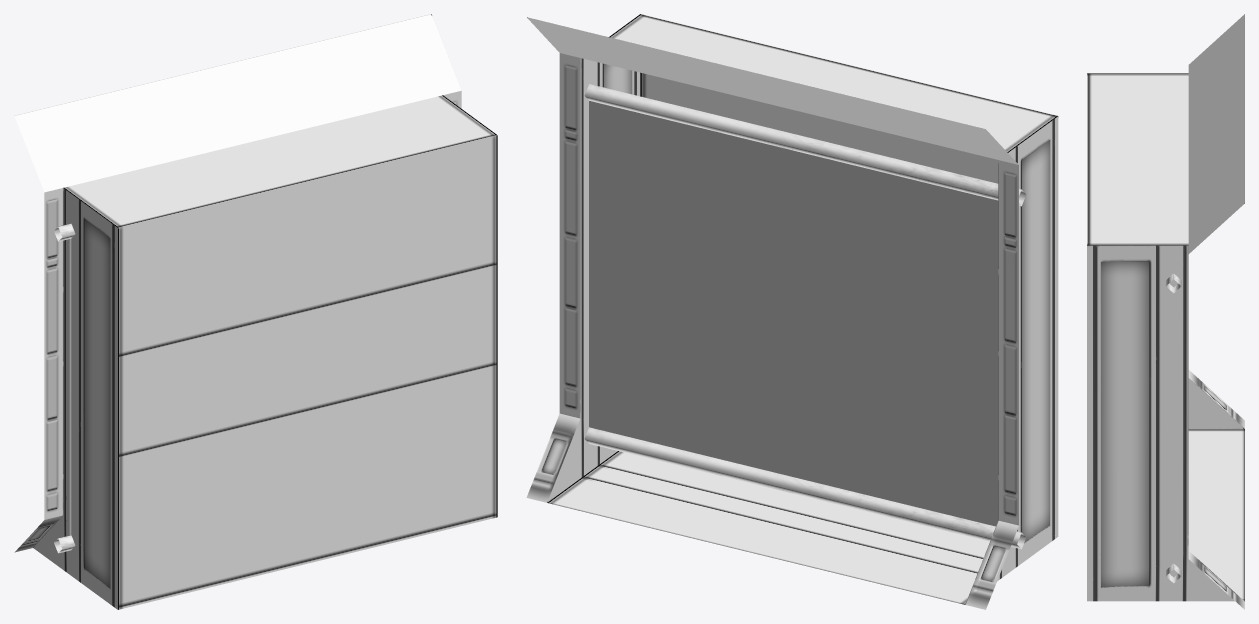
Rendered from Sect_Wall_8_Fence.FBX.
3 renders of one model, left to right at view 1: azimuth 30°, elevation 25°; view 2: azimuth 150°, elevation 25°; view 3: azimuth 270°, elevation 25°, orthographic. The views are drawn at different scales.
Parts seen in each view (by area): view 1: Sect_Wall_G_004, Plane026; view 2: Plane026, Sect_Wall_G_004; view 3: Sect_Wall_G_004.
Boxes of the visible parts, x1=… form: Sect_Wall_G_004: x1=14, y1=14, x2=497, y2=609; Plane026: x1=69, y1=239, x2=71, y2=535; Plane026: x1=589, y1=101, x2=998, y2=526; Sect_Wall_G_004: x1=526, y1=14, x2=1058, y2=609; Sect_Wall_G_004: x1=1087, y1=14, x2=1244, y2=609.
Size of the model in its own units: 4 by 4 by 1.41.
